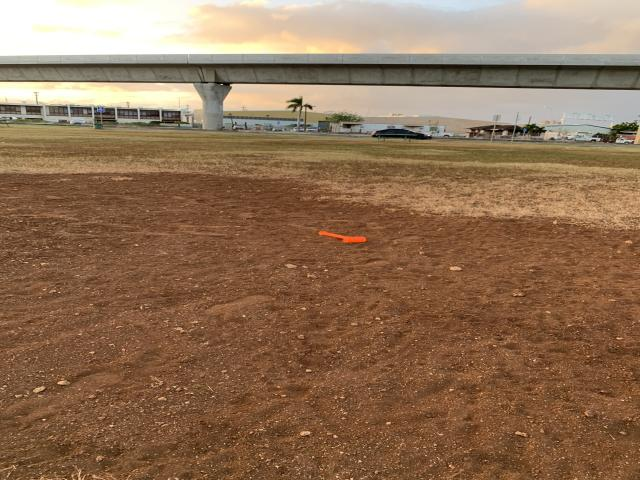hammer: (318, 231, 367, 243)
